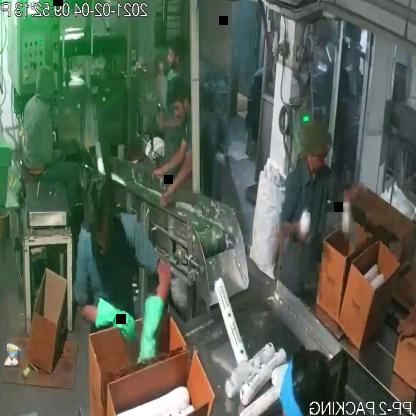glove: (90, 285, 140, 351), (137, 282, 168, 368)
no_glove: (150, 128, 192, 187), (160, 148, 198, 206), (276, 204, 318, 254), (399, 310, 416, 360)
